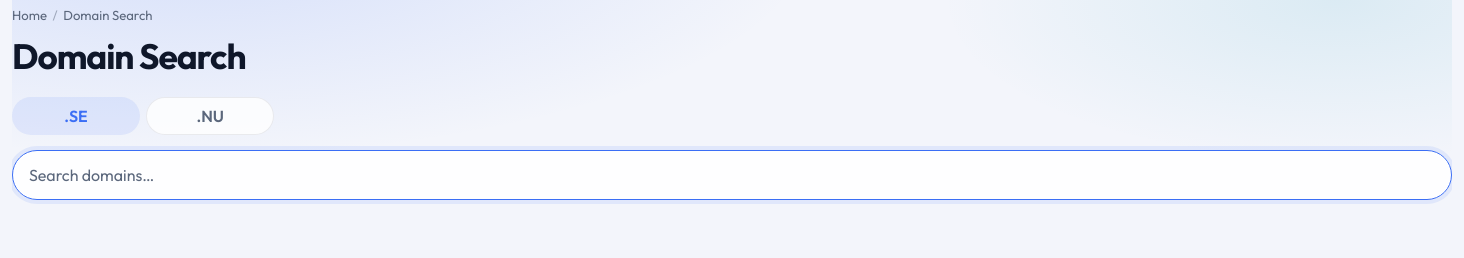
Test: Search Component › shows message for short queries
Type "co" into the field.
click(732, 174); type("co")  # box x1=12 y1=150 x2=1452 y2=200
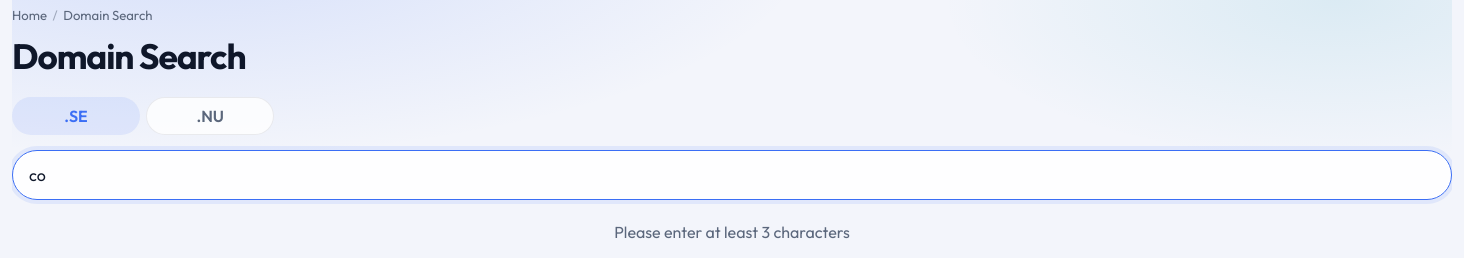
Expected: the text "Please enter at least 3 characters" is shown, x1=614 y1=222 x2=850 y2=242
